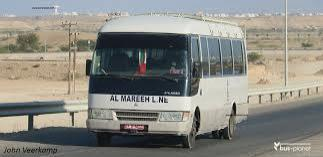bus: (84, 18, 247, 149)
